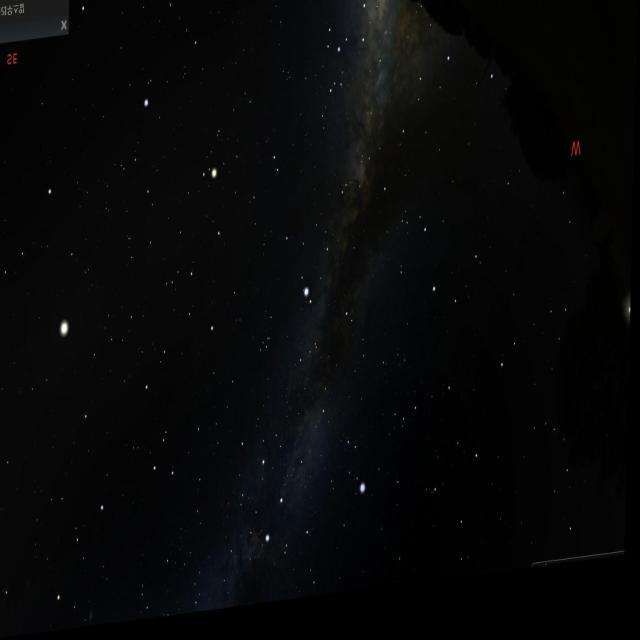aquila: (275, 184, 357, 328)
cygnus: (254, 366, 335, 564)
lyra: (341, 433, 374, 512)
sagittarius: (333, 0, 382, 75)
